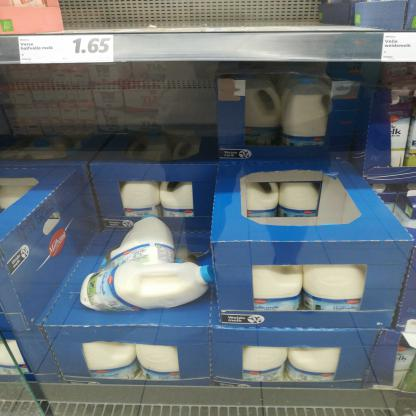prtg: (19, 36, 115, 65), (382, 33, 415, 63)
